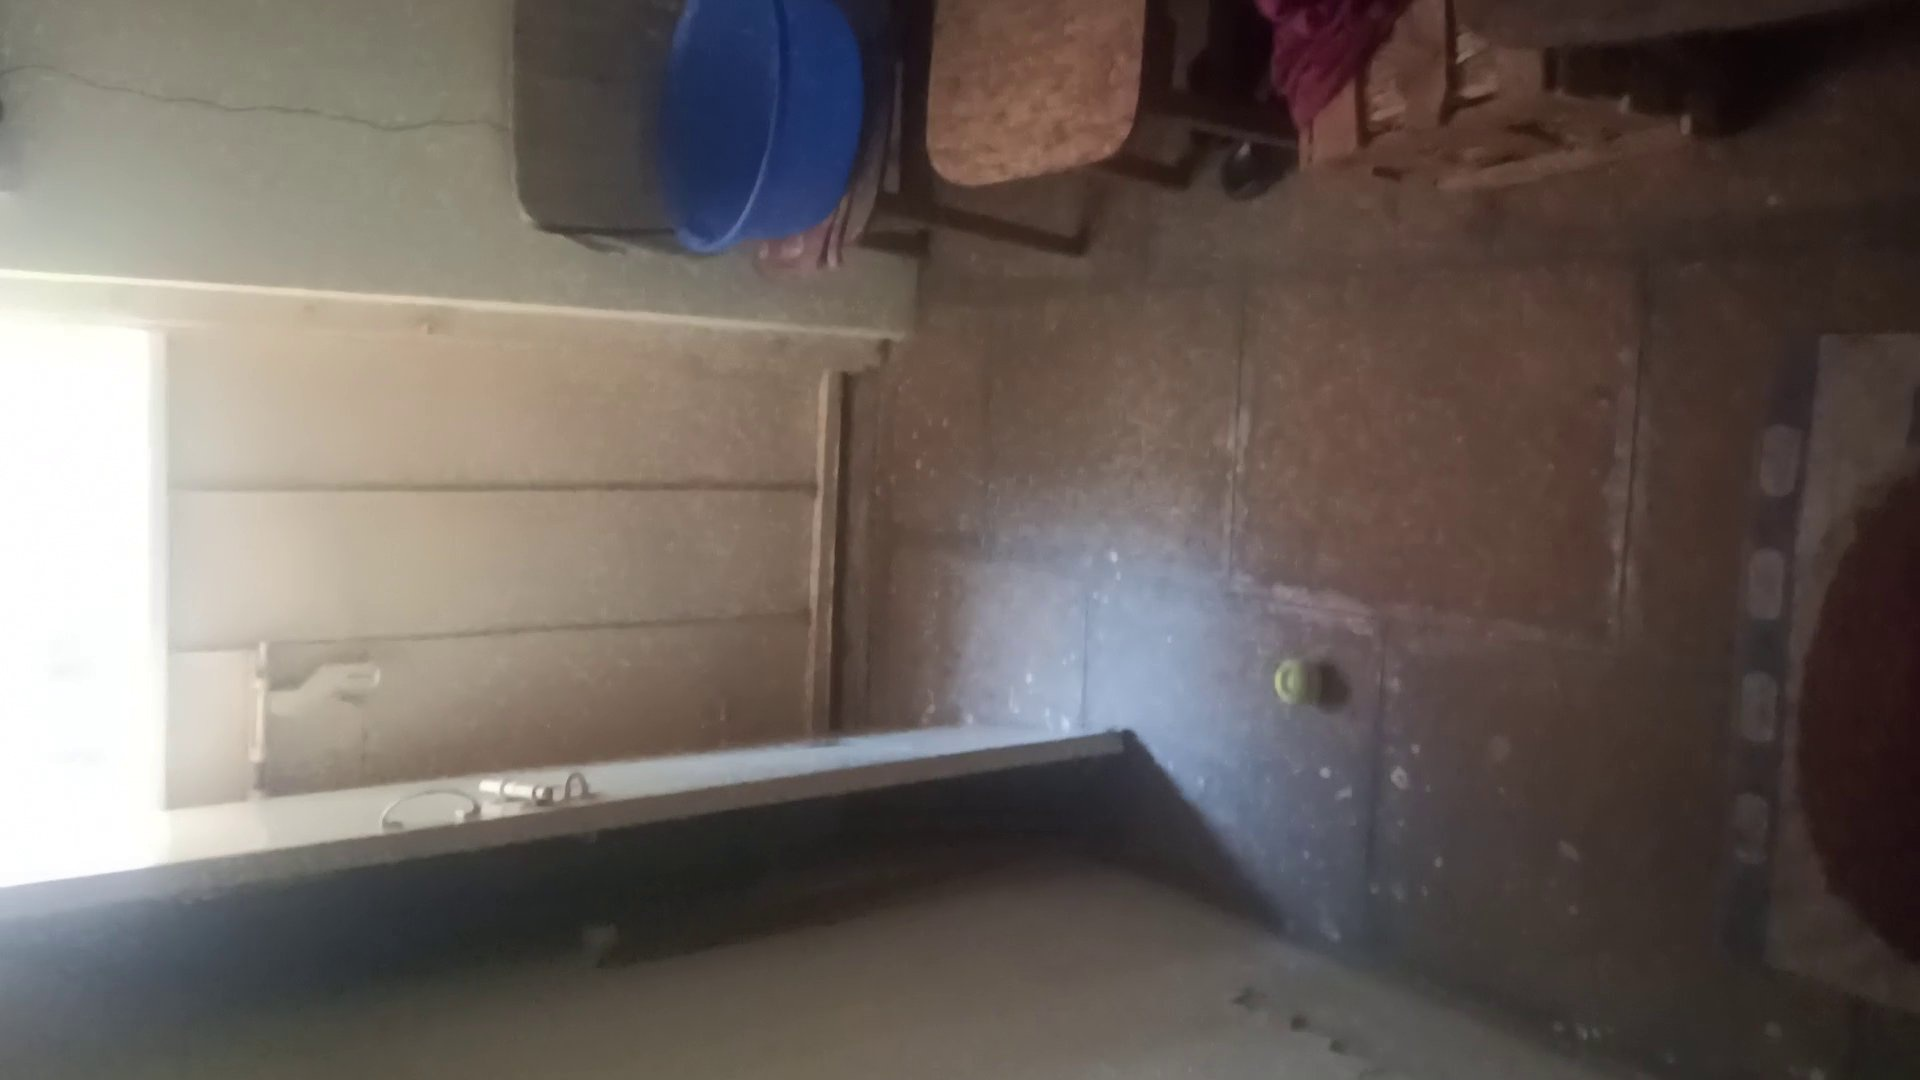Tennis-Ball: (1274, 657, 1323, 703)
